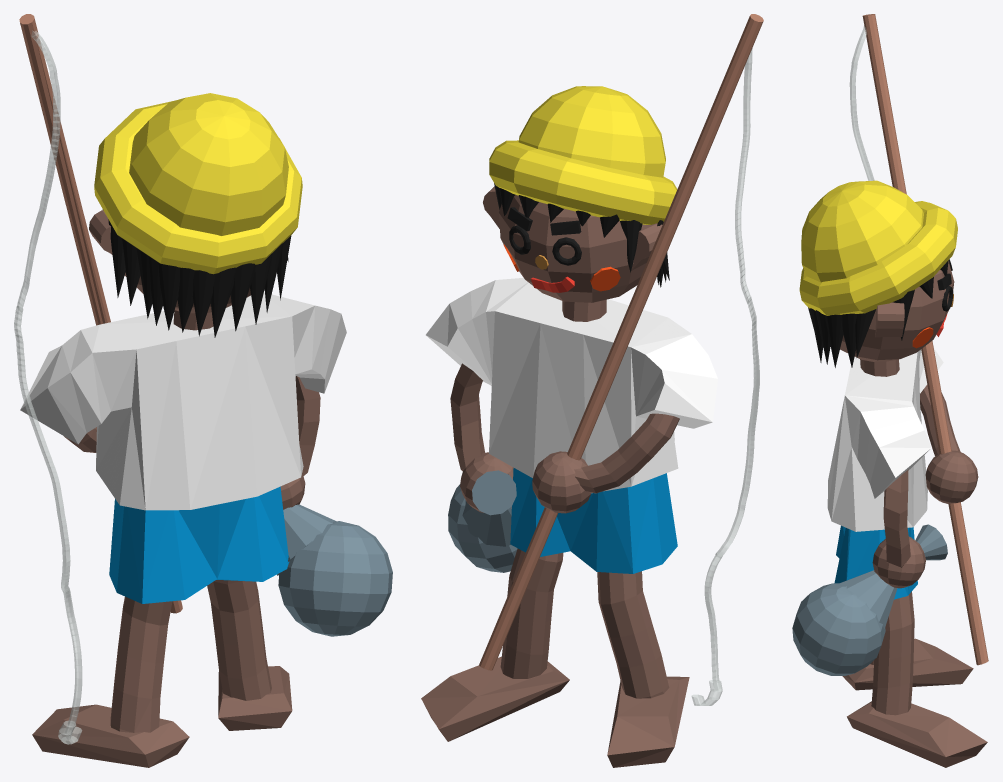
Rendered from fisherboy.glb.
3 renders of one model, left to right at view 1: azimuth 30°, elevation 25°; view 2: azimuth 150°, elevation 25°; view 3: azimuth 270°, elevation 25°, orthographic. The views are drawn at different scales.
Parts seen in each view (by area): view 1: group859834207, group1030146886, group2122085035, group834305997, group1029721427, group1770293099, group876931741, group1132602457, group350010255, group49201193, group1474694293, group1927285810 (+12 smaller); view 2: group859834207, group2122085035, group350010255, group1030146886, group834305997, group2035844287, group49201193, group1770293099, group876931741, group1132602457, group190425998, group409691974 (+10 smaller); view 3: group859834207, group1030146886, group834305997, group1029721427, group350010255, group49201193, group1132602457, group2035844287, group876931741, group122277478, group2122085035, group409691974 (+11 smaller).
Part boxes in pixels (box(x1,y1,x2,y2)): group859834207: box(20, 292, 346, 510); group1030146886: box(129, 93, 288, 235); group2122085035: box(109, 486, 289, 603); group834305997: box(94, 101, 302, 274); group1029721427: box(278, 521, 392, 636); group1770293099: box(110, 596, 172, 732); group876931741: box(32, 704, 189, 767); group1132602457: box(207, 580, 271, 700); group350010255: box(19, 14, 182, 613); group49201193: box(218, 666, 292, 730); group1474694293: box(14, 306, 70, 594); group1927285810: box(17, 31, 60, 312); group859834207: box(426, 277, 717, 493); group2122085035: box(510, 468, 677, 573); group350010255: box(479, 14, 763, 670); group1030146886: box(518, 86, 665, 177); group834305997: box(489, 140, 677, 224); group2035844287: box(498, 194, 646, 302); group49201193: box(421, 656, 569, 741); group1770293099: box(597, 571, 669, 698); group876931741: box(607, 676, 689, 767); group1132602457: box(500, 548, 563, 678); group190425998: box(574, 413, 679, 493); group409691974: box(450, 363, 508, 474); group859834207: box(827, 348, 943, 531); group1030146886: box(801, 180, 923, 282); group834305997: box(799, 201, 957, 315); group1029721427: box(792, 583, 885, 675); group350010255: box(862, 14, 988, 665); group49201193: box(847, 701, 987, 767); group1132602457: box(871, 591, 914, 715); group2035844287: box(840, 261, 954, 361); group876931741: box(842, 638, 973, 690); group122277478: box(925, 450, 978, 503); group2122085035: box(834, 525, 917, 599); group409691974: box(883, 469, 910, 567).
Bounding box in the file's own units: 0.2409 × 0.5243 × 0.1459.
